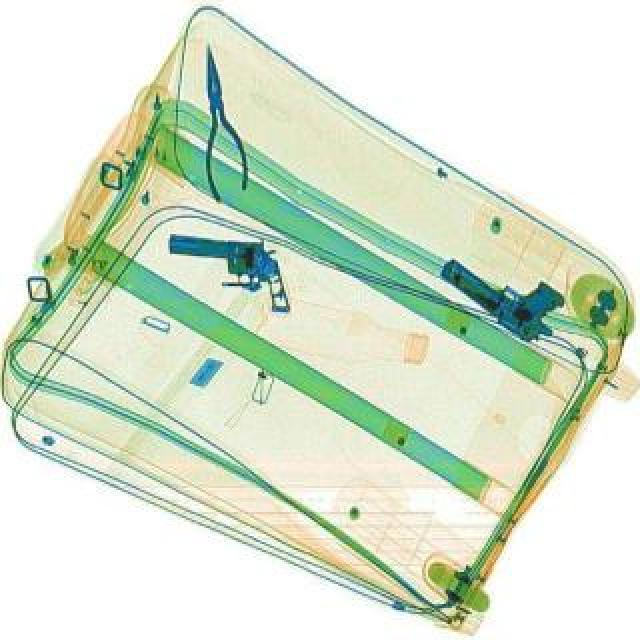gun: (434, 226, 578, 352), (168, 232, 294, 312)
wrench: (186, 42, 254, 200)
